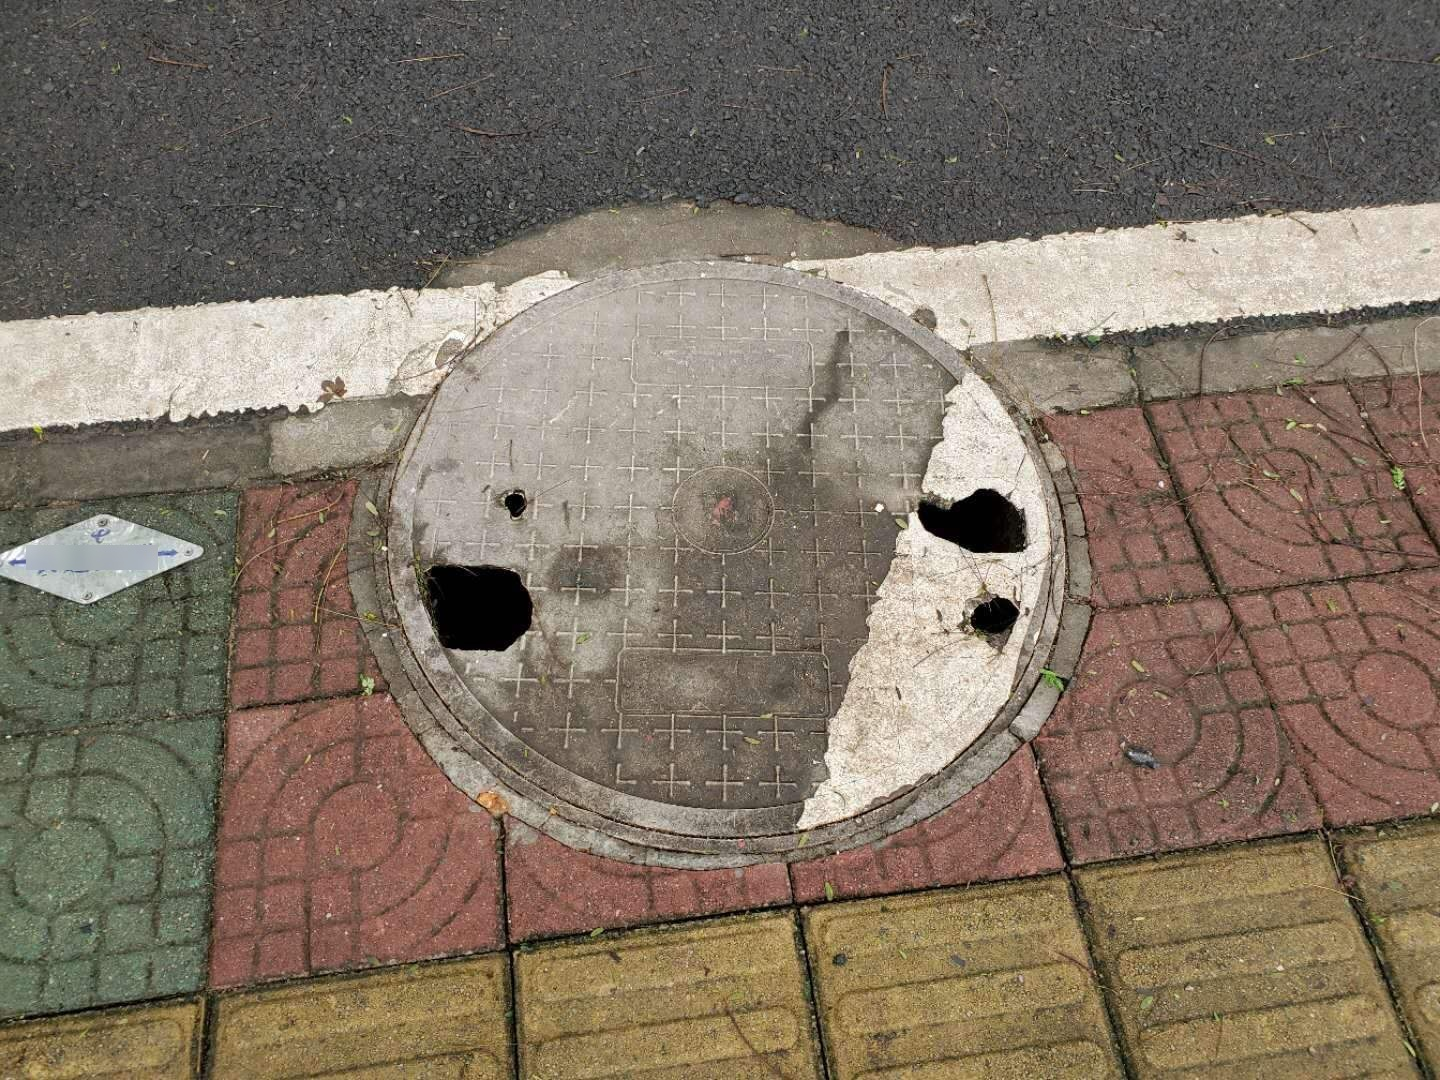broke: (354, 259, 1091, 870)
